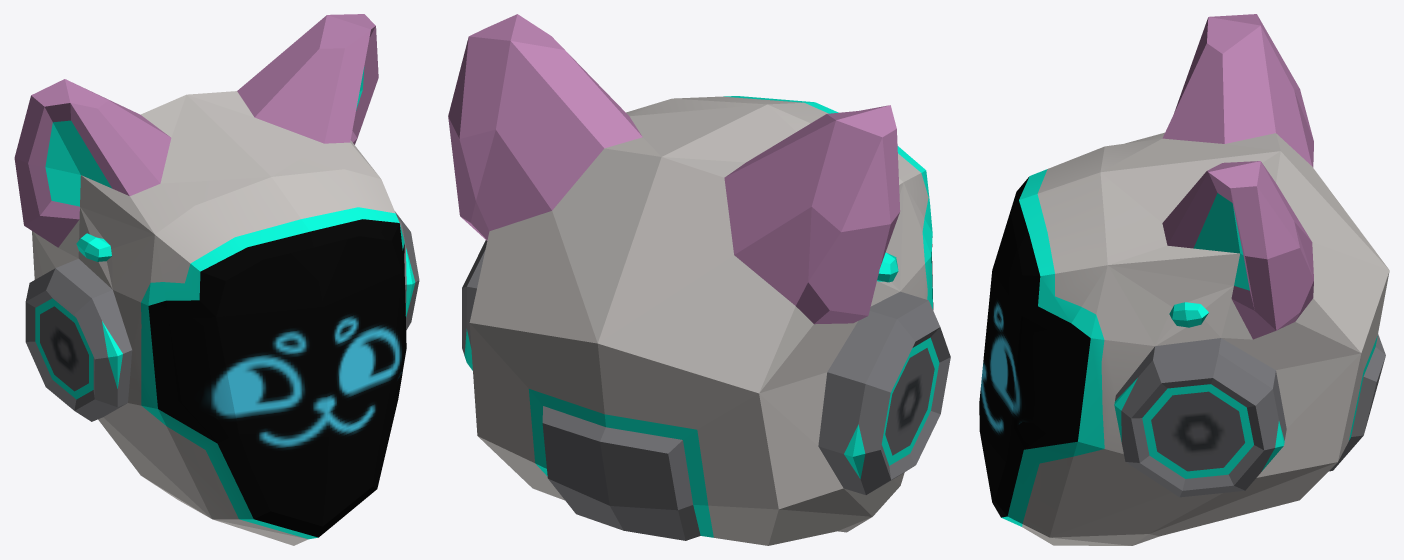
The model's file is SM_Chr_Attach_Helmet_Cat_Male_01.fbx.
The picture shows the model from 3 angles, left to right: view 1: azimuth 30°, elevation 25°; view 2: azimuth 150°, elevation 25°; view 3: azimuth 270°, elevation 25°; orthographic projection. The views are drawn at different scales.
Visible parts, largest first — view 1: SM_Chr_Attach_Helmet_Cat_Male_01; view 2: SM_Chr_Attach_Helmet_Cat_Male_01; view 3: SM_Chr_Attach_Helmet_Cat_Male_01.
Part boxes in pixels (x1,y1,x2,y2): SM_Chr_Attach_Helmet_Cat_Male_01: [14, 14, 419, 545]; SM_Chr_Attach_Helmet_Cat_Male_01: [448, 14, 950, 545]; SM_Chr_Attach_Helmet_Cat_Male_01: [979, 14, 1389, 545].
Size of the model in its own units: 34.38 by 39.38 by 32.38.
